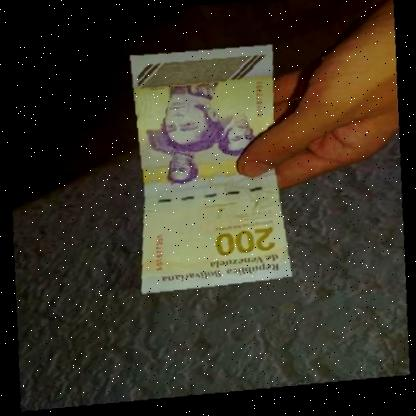two_hundred-front-vef: (122, 42, 299, 298)
